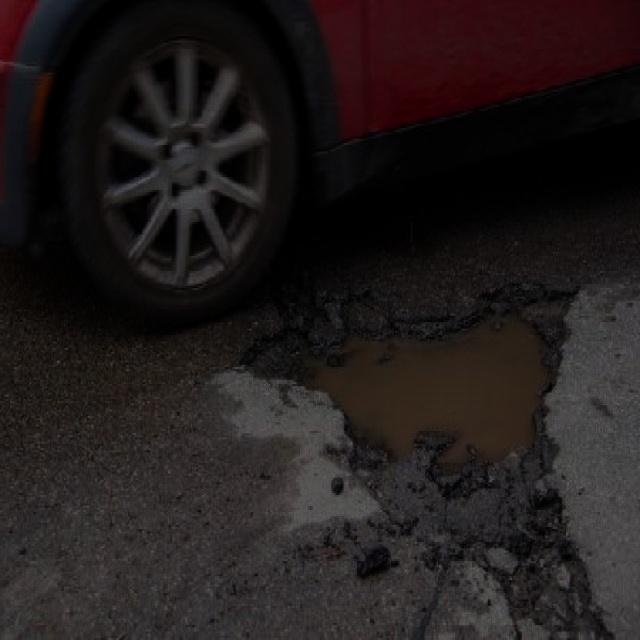Pothole: (239, 276, 583, 476)
